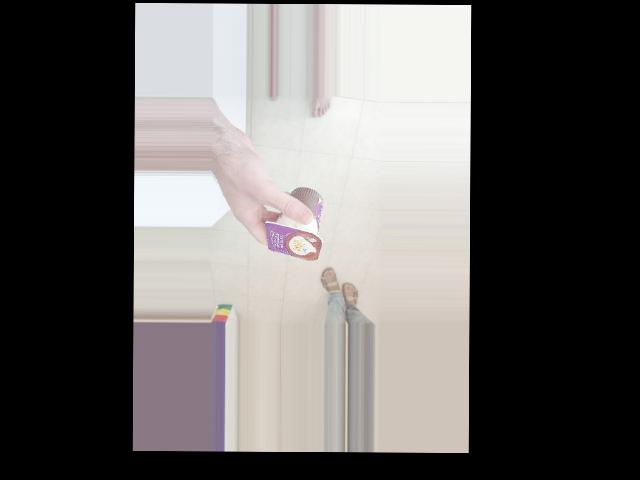milky: (269, 200, 349, 266)
